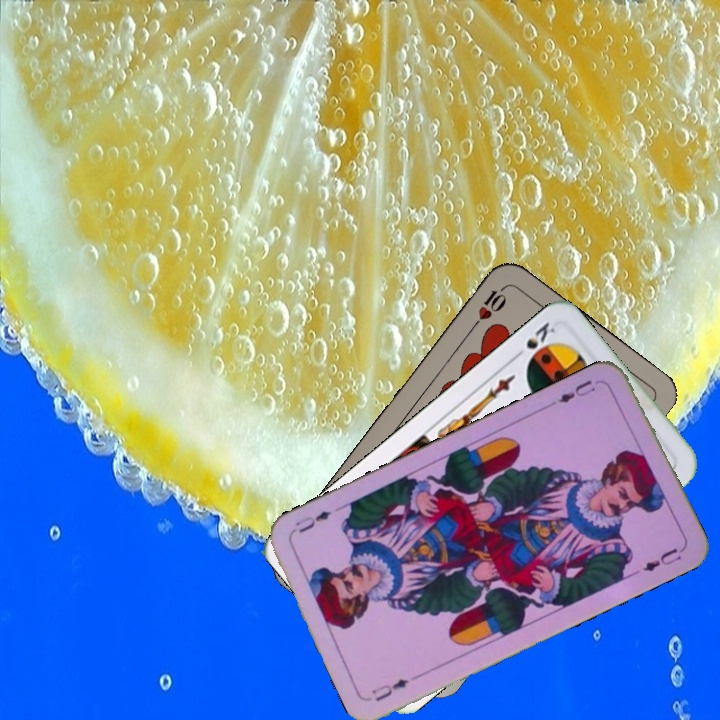EU: (549, 376, 599, 408), (367, 674, 411, 704)
H10: (466, 282, 510, 333)
SK: (509, 317, 558, 362)
